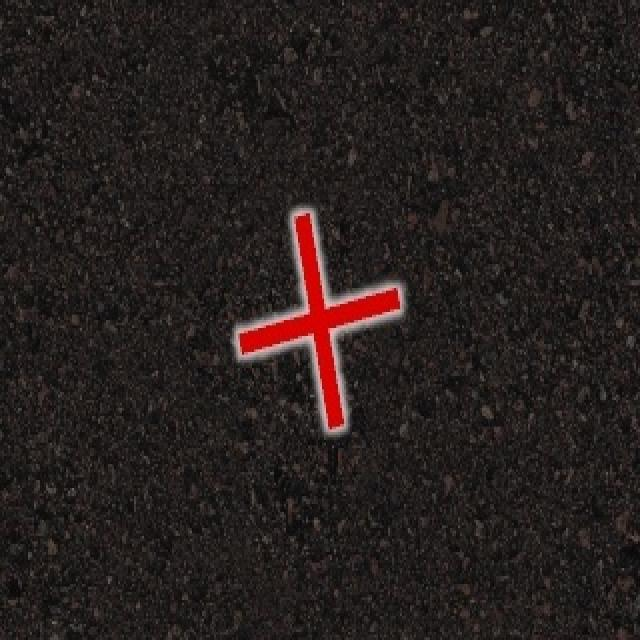x_marker: (237, 212, 399, 428)
